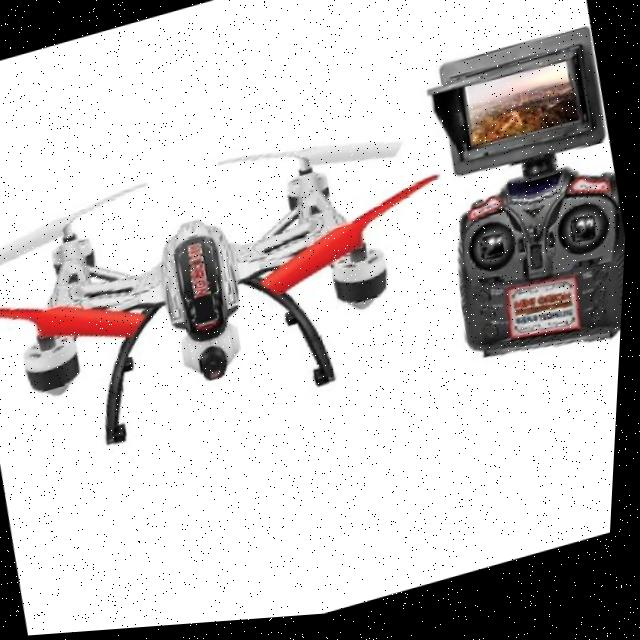drones: (0, 92, 482, 493)
